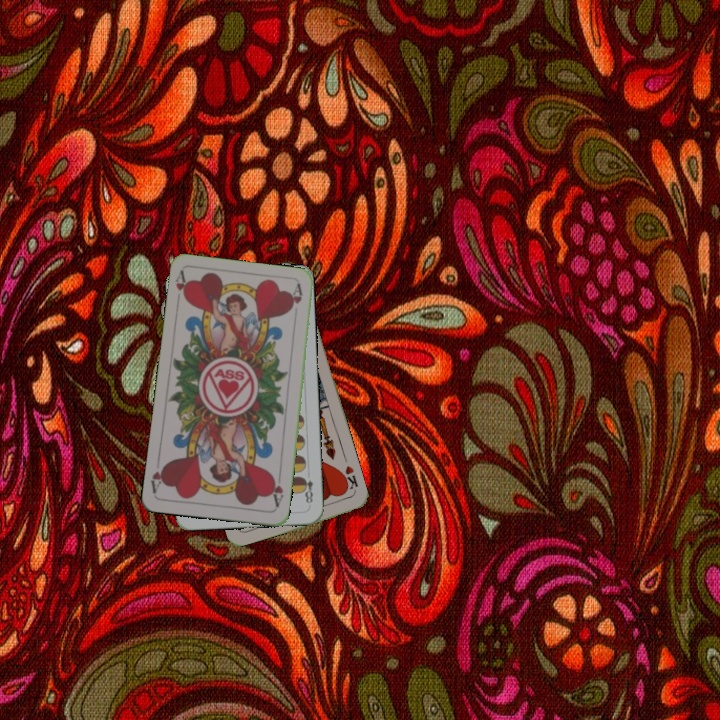E8: (298, 473, 315, 506)
HA: (267, 470, 286, 510), (171, 268, 191, 303)
HK: (337, 462, 361, 496)
